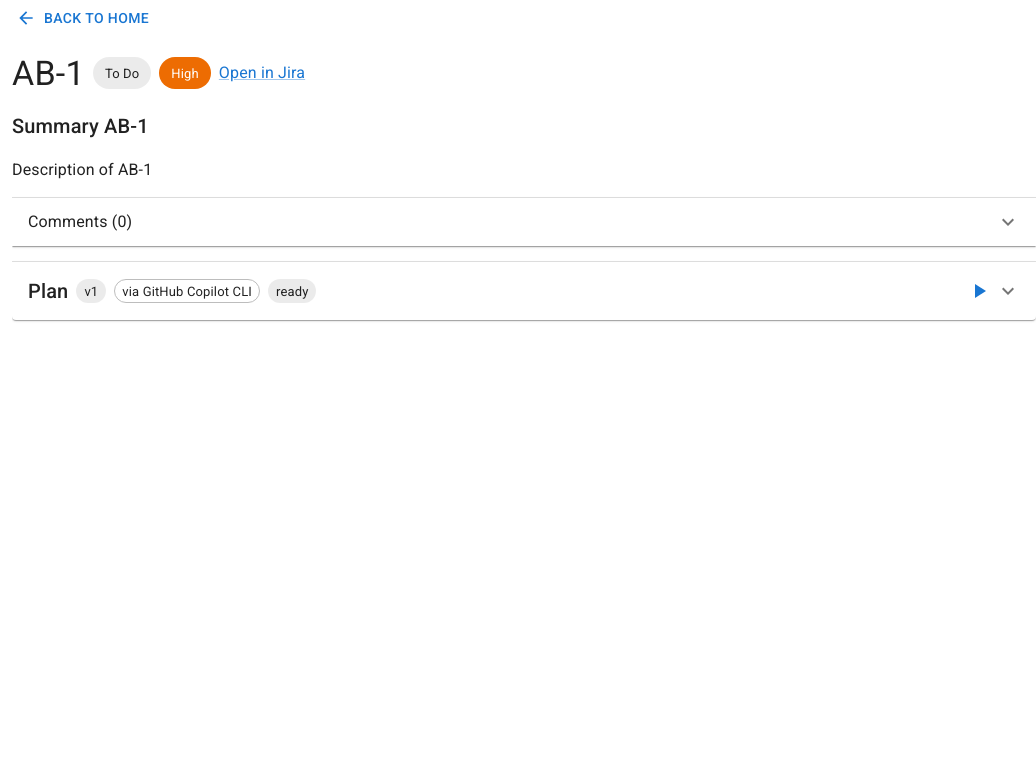
it: play on a ready plan opens the accordion and focuses Approve
Click the button named "Review plan": [979, 292] box 962,274 -> 996,308
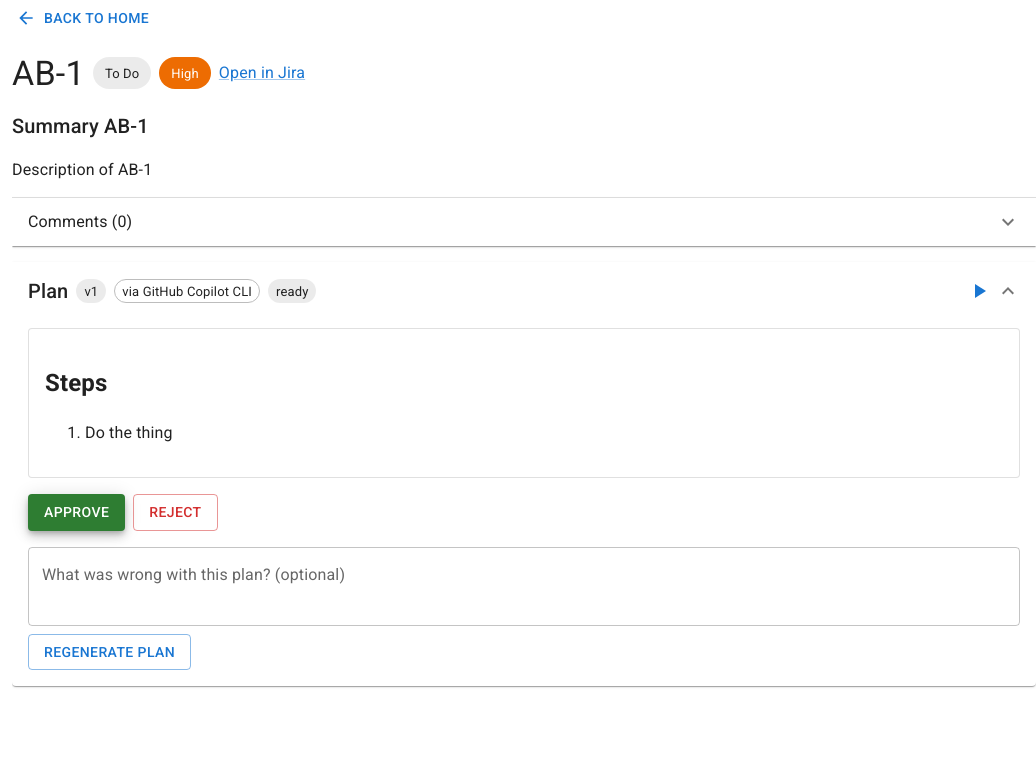
Now the button "Plan v1 via GitHub Copilot CLI ready" is expanded, box 28,274 -> 1020,308
